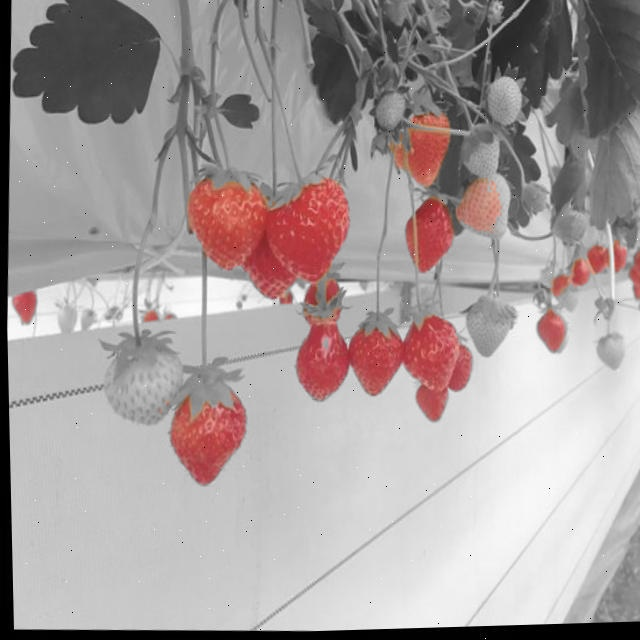ripe: (180, 166, 273, 284), (162, 371, 250, 490), (260, 182, 350, 292), (289, 323, 353, 411), (398, 316, 464, 400), (342, 320, 403, 404), (399, 195, 454, 279), (529, 312, 569, 360), (438, 344, 473, 396), (411, 383, 452, 424), (584, 246, 608, 278), (568, 262, 590, 292), (608, 246, 628, 276), (549, 276, 569, 302)
unripe: (89, 326, 184, 436), (390, 108, 452, 196), (457, 288, 520, 364), (454, 178, 512, 247), (482, 75, 526, 134), (459, 133, 503, 187), (370, 89, 410, 143), (592, 332, 628, 379), (520, 182, 552, 224), (52, 297, 78, 339), (562, 212, 588, 248)
